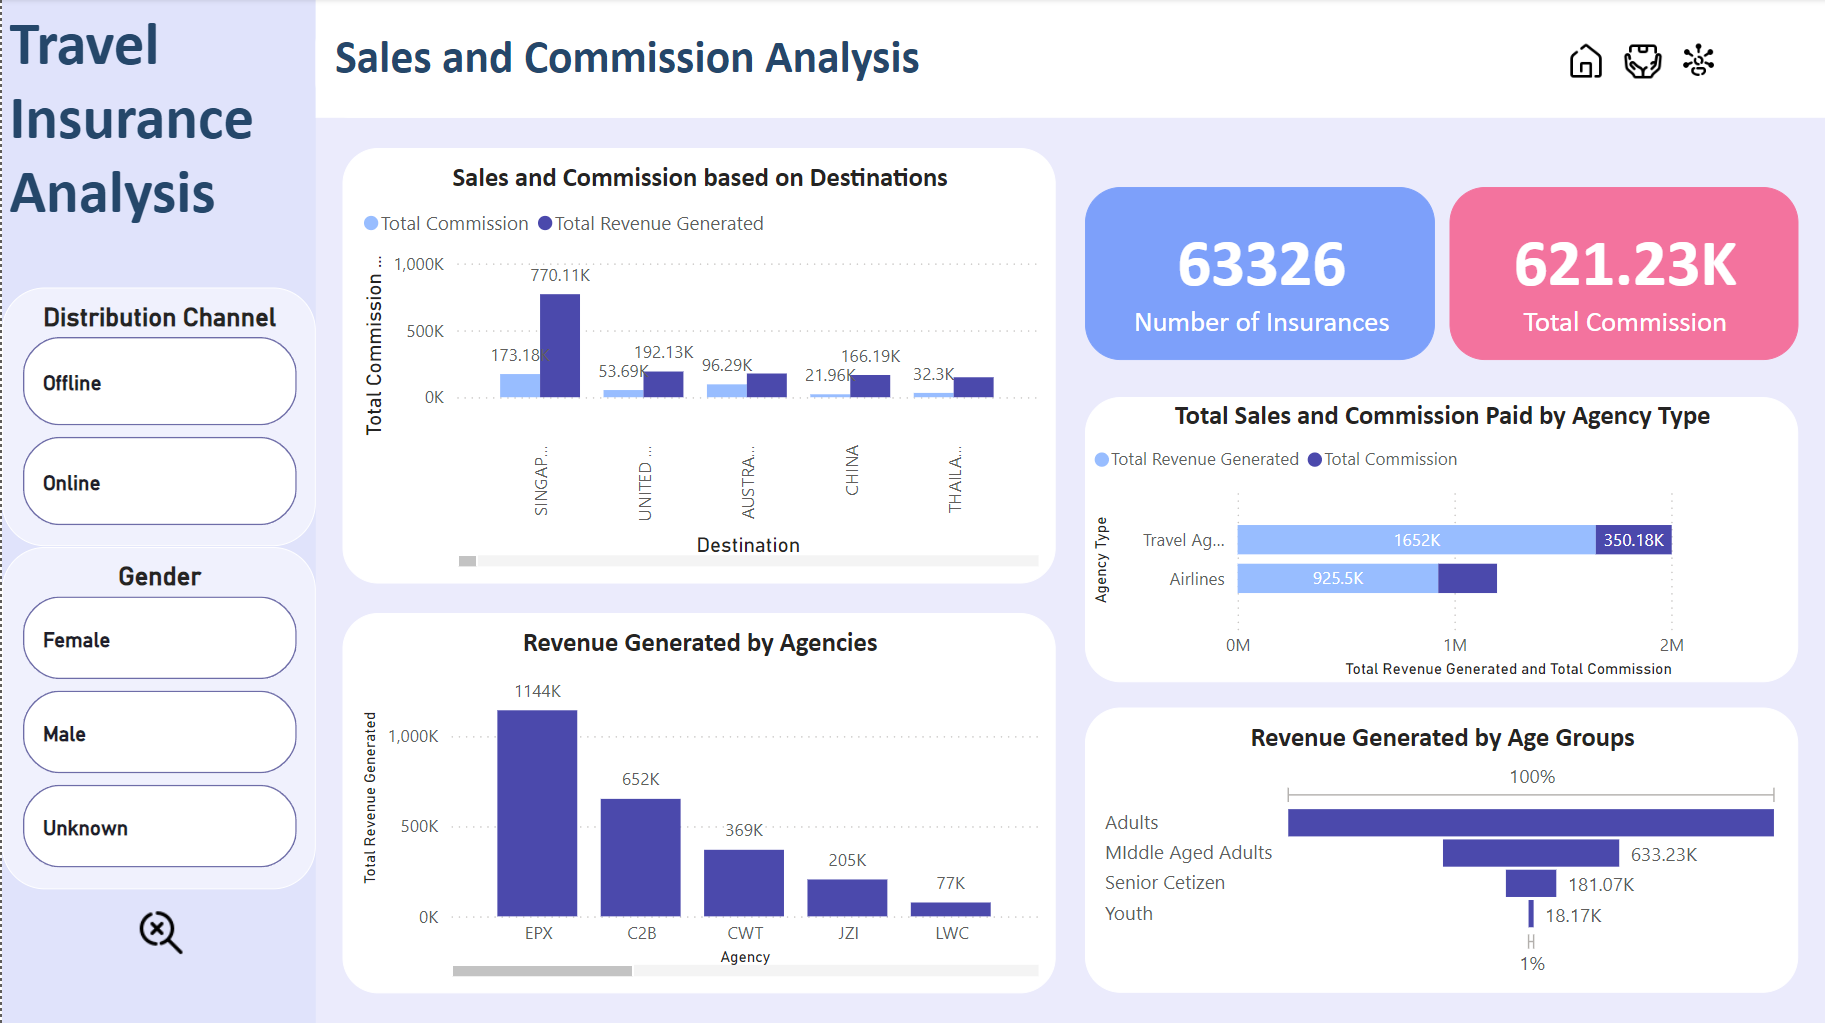

The page's visual inventory and layout, read from the dashboard file:
{"tool":"powerbi","page":{"name":"Sales and Commission Analysis","canvas":[1280,720],"ordinal":2},"visuals":[{"type":"textbox","box":[219.8,0,1060,84.1],"z":0},{"type":"textbox","box":[0,0,220,720],"z":1000},{"type":"advancedSlicerVisual","fields":{"Values":["travel insurance dataset.Gender"]},"box":[0,384.6,220,240],"z":2000},{"type":"advancedSlicerVisual","fields":{"Values":["travel insurance dataset.Distribution Channel"]},"box":[0,203.4,220,181.1],"z":3000},{"type":"clusteredColumnChart","title":"Sales and Commission based on Destinations","fields":{"Category":["travel insurance dataset.Destination"],"Y":["travel insurance dataset.Total Commission","travel insurance dataset.Total Revenue Generated"]},"box":[238.9,105.6,500,305.6],"z":4000},{"type":"clusteredColumnChart","title":"Revenue Generated by Agencies","fields":{"Category":["travel insurance dataset.Agency"],"Y":["travel insurance dataset.Total Revenue Generated"]},"box":[238.9,431.1,500,266.7],"z":5000},{"type":"barChart","title":"Total Sales and Commission Paid by Agency Type","fields":{"Category":["travel insurance dataset.Agency Type"],"Y":["travel insurance dataset.Total Revenue Generated","travel insurance dataset.Total Commission"]},"box":[758.9,280,500,200],"z":6000},{"type":"funnel","title":"Revenue Generated by Age Groups","fields":{"Category":["travel insurance dataset.Age Groups"],"Y":["travel insurance dataset.Total Revenue Generated"]},"box":[758.9,497.8,500,200],"z":7000},{"type":"card","fields":{"Values":["CountNonNull(travel insurance dataset.Product Name)"]},"box":[758.9,132.2,245.6,121.1],"z":8000},{"type":"card","fields":{"Values":["travel insurance dataset.Total Commission"]},"box":[1014.4,132.2,244.4,121.1],"z":9000},{"type":"textbox","box":[219.8,7.4,500.6,76.8],"z":10000},{"type":"textbox","box":[0,0,220,192.2],"z":11000},{"type":"image","box":[1170.5,24.2,37.9,40],"z":12000},{"type":"image","box":[1090.5,24.2,40,40],"z":13000},{"type":"image","box":[1130.5,24.2,40,40],"z":14000},{"type":"image","box":[86.2,629.9,50.5,50.5],"z":15000}]}

Visuals, with their boxes in screenshot pixels (x1, y1, x2, y2), scaled from the page's 1280x720 canvas onto the 1825x1023 screenshot:
textbox: crop(313, 0, 1824, 119)
textbox: crop(0, 0, 314, 1022)
advancedSlicerVisual - travel insurance dataset.Gender: crop(0, 546, 314, 887)
advancedSlicerVisual - travel insurance dataset.Distribution Channel: crop(0, 289, 314, 546)
"Sales and Commission based on Destinations" clusteredColumnChart: crop(341, 150, 1054, 584)
"Revenue Generated by Agencies" clusteredColumnChart: crop(341, 613, 1054, 991)
"Total Sales and Commission Paid by Agency Type" barChart: crop(1082, 398, 1795, 682)
"Revenue Generated by Age Groups" funnel: crop(1082, 707, 1795, 991)
card - CountNonNull(travel insurance dataset.Product Name): crop(1082, 188, 1432, 360)
card - travel insurance dataset.Total Commission: crop(1446, 188, 1795, 360)
textbox: crop(313, 11, 1027, 120)
textbox: crop(0, 0, 314, 273)
image: crop(1669, 34, 1723, 91)
image: crop(1555, 34, 1612, 91)
image: crop(1612, 34, 1669, 91)
image: crop(123, 895, 195, 967)
